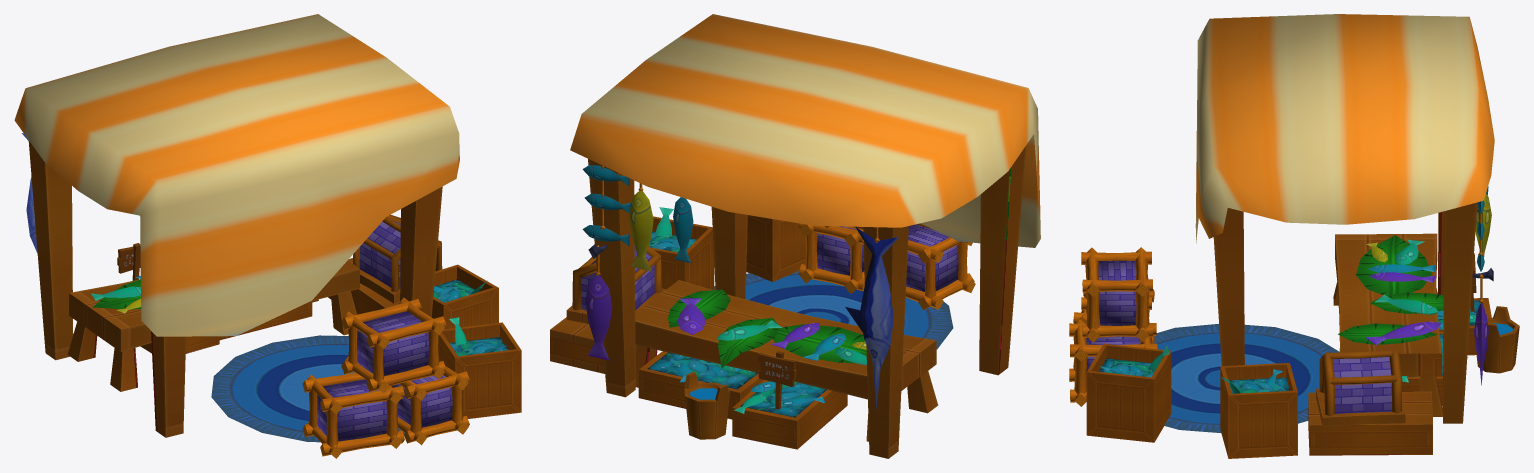
The model's file is HOS1010006.fbx.
The picture shows the model from 3 angles, left to right: view 1: azimuth 30°, elevation 25°; view 2: azimuth 150°, elevation 25°; view 3: azimuth 270°, elevation 25°; orthographic projection. The views are drawn at different scales.
Parts seen in each view (by area): view 1: smHOS1010006; view 2: smHOS1010006; view 3: smHOS1010006.
Part boxes in pixels (x1,y1,x2,y2): smHOS1010006: [14, 14, 521, 458]; smHOS1010006: [550, 14, 1040, 458]; smHOS1010006: [1069, 14, 1519, 458].
Size of what is drawn, in the model's own units: 428 by 303 by 448.
Materials: 1 (1 with a texture image).
